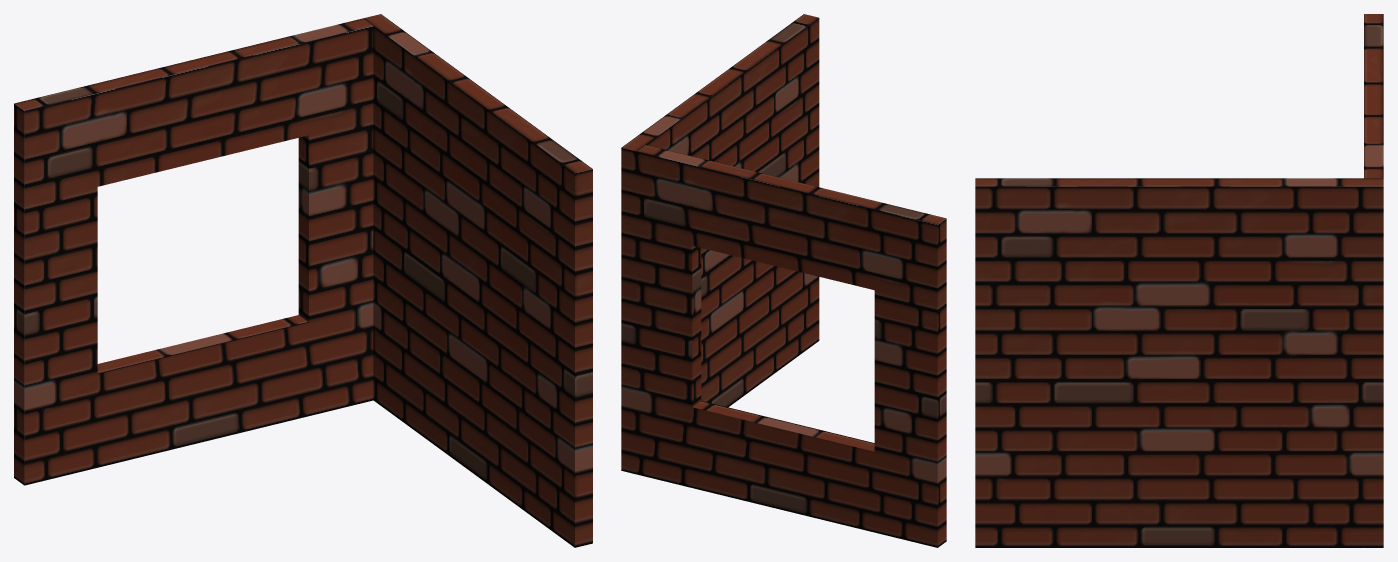
Rendered from Wall_1_Corner_C.fbx.
The picture shows the model from 3 angles, left to right: view 1: azimuth 30°, elevation 25°; view 2: azimuth 150°, elevation 25°; view 3: azimuth 270°, elevation 25°; orthographic projection. The views are drawn at different scales.
Visible parts, largest first — view 1: polySurface6; view 2: polySurface6; view 3: polySurface6.
Boxes of the visible parts, x1,y1,x2,y2 form: polySurface6: (14,14,592,547); polySurface6: (621,14,946,547); polySurface6: (975,14,1383,547).
Size of the model in its own units: 4.1 by 4 by 4.1.
